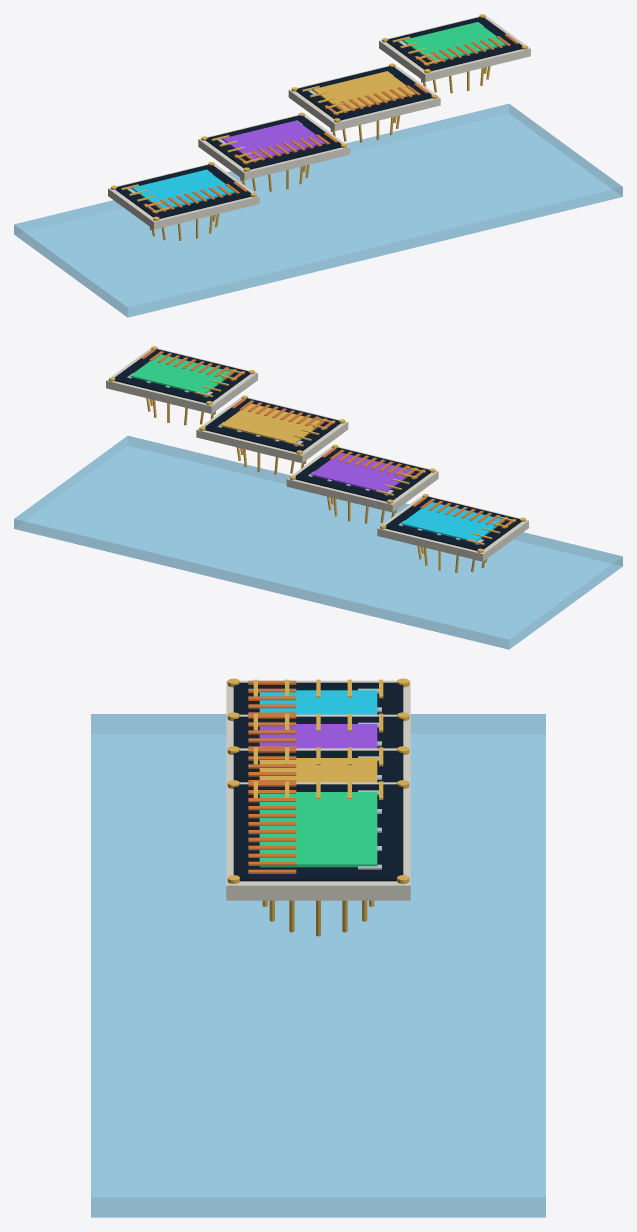
The model's file is 65_L79_Completed3DChipStackHologram.fbx.
3 renders of one model, top to bottom at view 1: azimuth 30°, elevation 25°; view 2: azimuth 150°, elevation 25°; view 3: azimuth 270°, elevation 25°, orthographic. The views are drawn at different scales.
Parts seen in each view (by area): view 1: Completed3DChipStackHologram; view 2: Completed3DChipStackHologram; view 3: Completed3DChipStackHologram.
Boxes of the visible parts, x1,y1,x2,y2 form: Completed3DChipStackHologram: (14, 14, 622, 317); Completed3DChipStackHologram: (14, 346, 622, 649); Completed3DChipStackHologram: (91, 678, 545, 1217).
Size of the model in its own units: 515 by 140 by 205.
